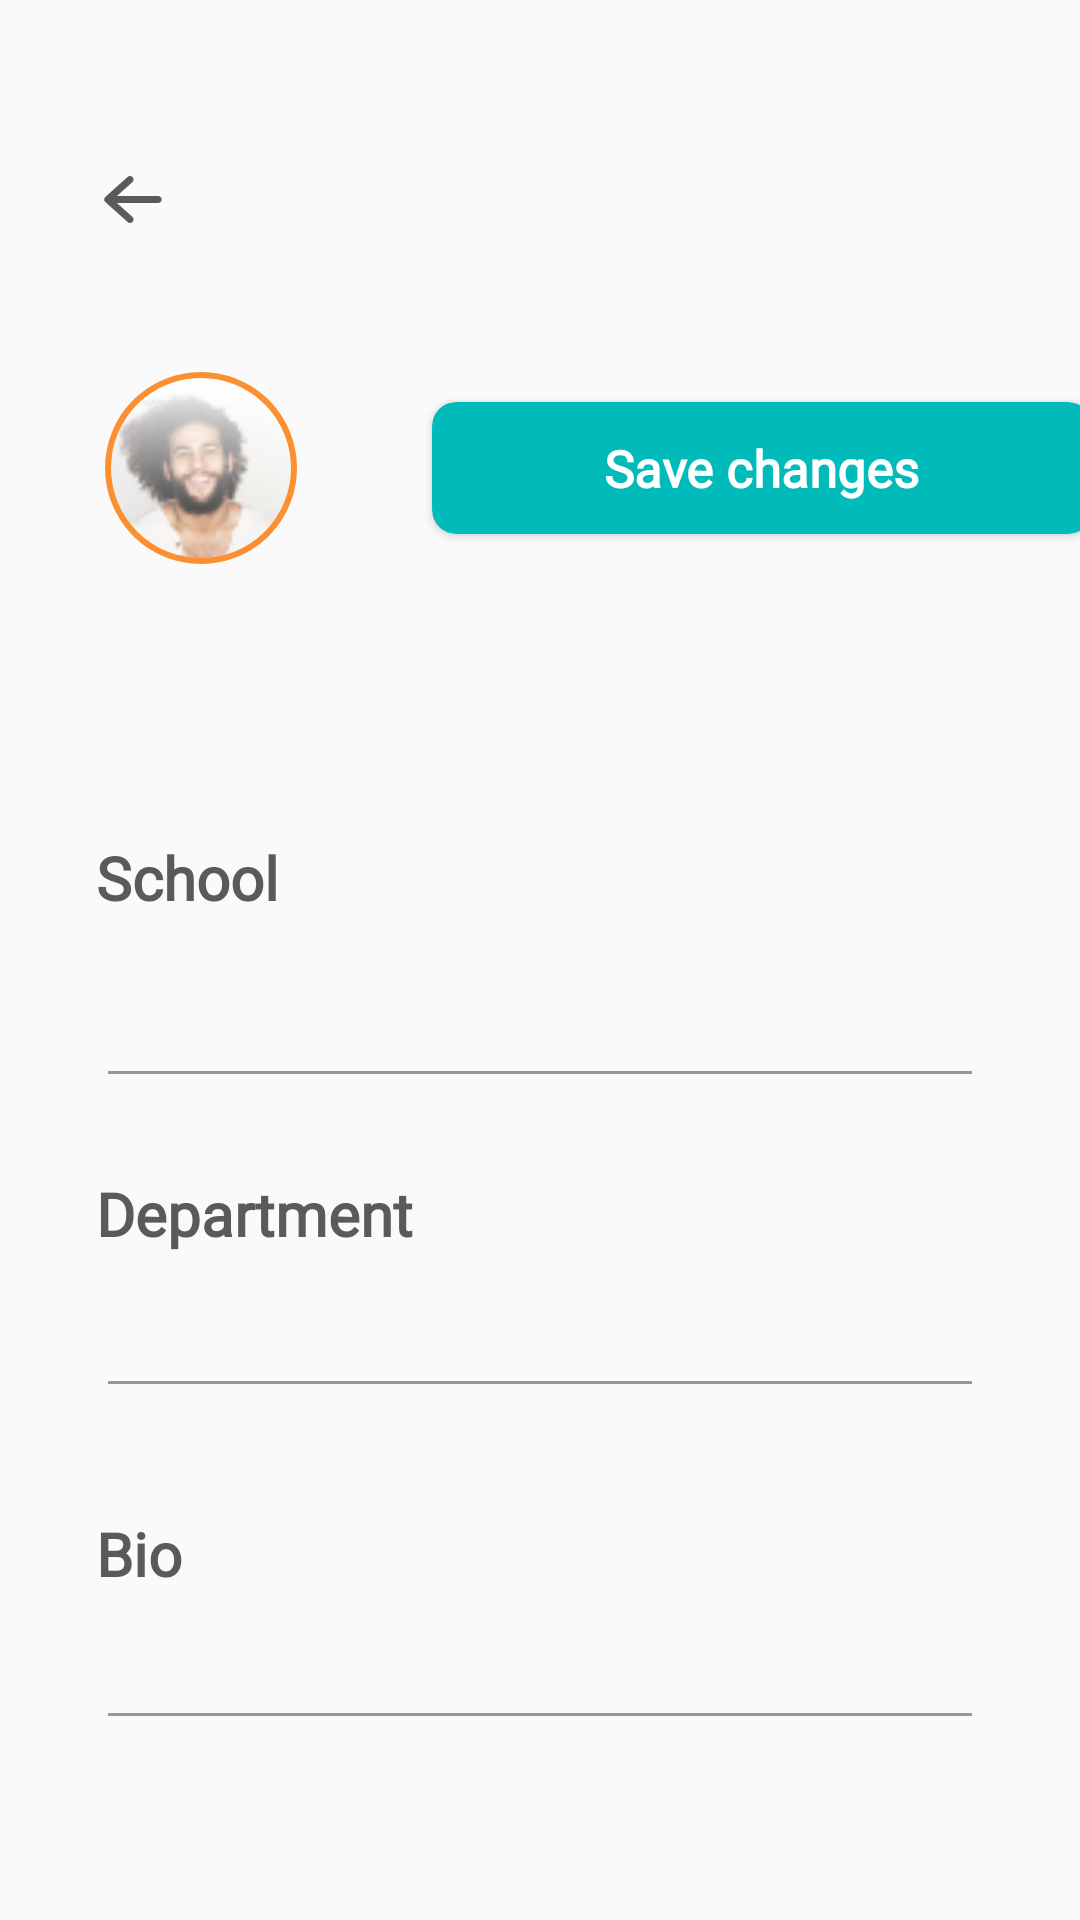

Named icons in this screenshot (1080 x 1920) and their bounding boxes, (x1, y1, x2, y2):
arrow left: (104, 176, 162, 223)
user profile: (105, 372, 297, 564)
